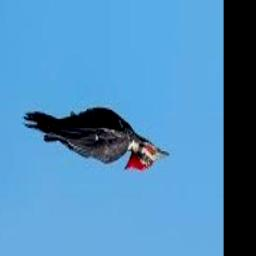Woodpecker: (22, 107, 168, 173)
